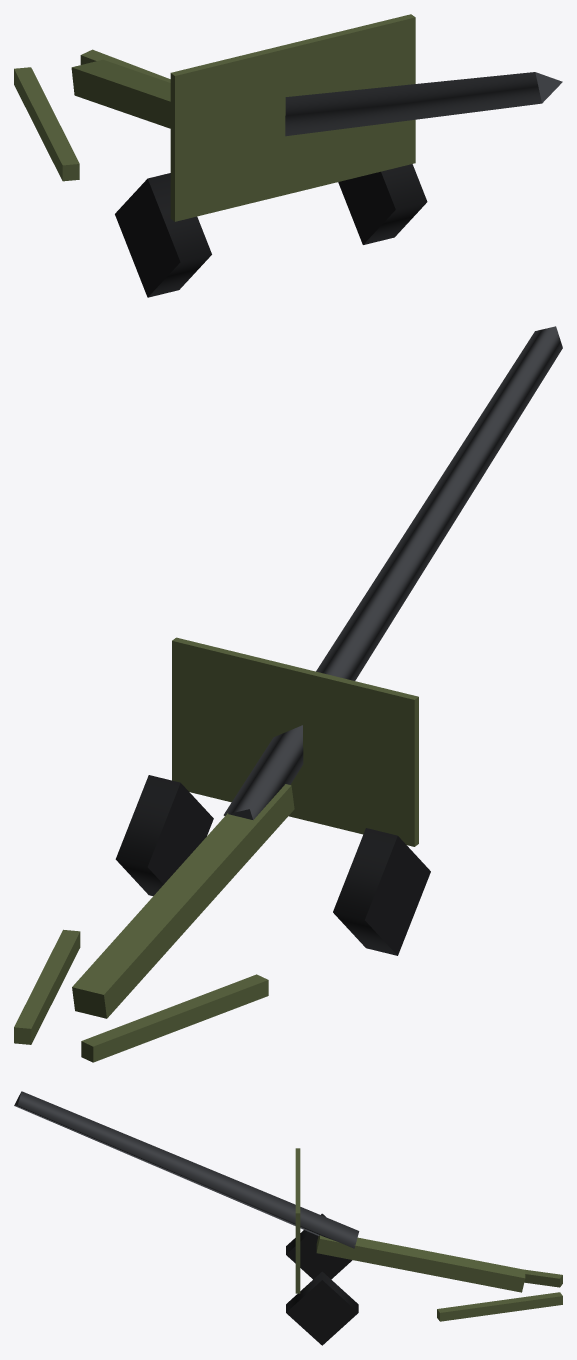
The model's file is unit_mil_gun_a07_lod2.glb.
The picture shows the model from 3 angles, top to bottom: view 1: azimuth 30°, elevation 25°; view 2: azimuth 150°, elevation 25°; view 3: azimuth 270°, elevation 25°; orthographic projection. The views are drawn at different scales.
Visible parts, largest first — view 1: body, barrel, wheel_0, wheel_1; view 2: body, barrel, wheel_0, wheel_1; view 3: body, barrel, wheel_1, wheel_0.
Boxes of the visible parts, x1=… form: body: x1=14, y1=14, x2=415, y2=221; barrel: x1=285, y1=72, x2=562, y2=136; wheel_0: x1=115, y1=173, x2=211, y2=297; wheel_1: x1=338, y1=164, x2=427, y2=244; body: x1=14, y1=637, x2=418, y2=1062; barrel: x1=223, y1=326, x2=562, y2=819; wheel_0: x1=333, y1=828, x2=430, y2=955; wheel_1: x1=115, y1=775, x2=213, y2=895; body: x1=295, y1=1148, x2=562, y2=1321; barrel: x1=14, y1=1091, x2=359, y2=1248; wheel_1: x1=286, y1=1271, x2=358, y2=1345; wheel_0: x1=286, y1=1213, x2=352, y2=1279.
Size of the model in its own units: 1.95 by 2.99 by 6.8.
